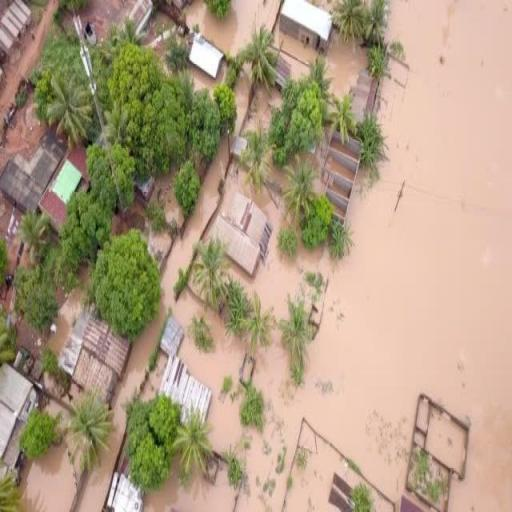flood: (74, 136, 230, 512), (188, 0, 280, 54), (188, 0, 280, 51), (20, 443, 77, 512), (326, 32, 370, 97), (45, 290, 82, 356), (234, 64, 253, 135), (190, 60, 227, 91), (45, 398, 69, 427)
house: (0, 360, 38, 494), (0, 140, 68, 208), (42, 152, 88, 234), (280, 0, 331, 54)
